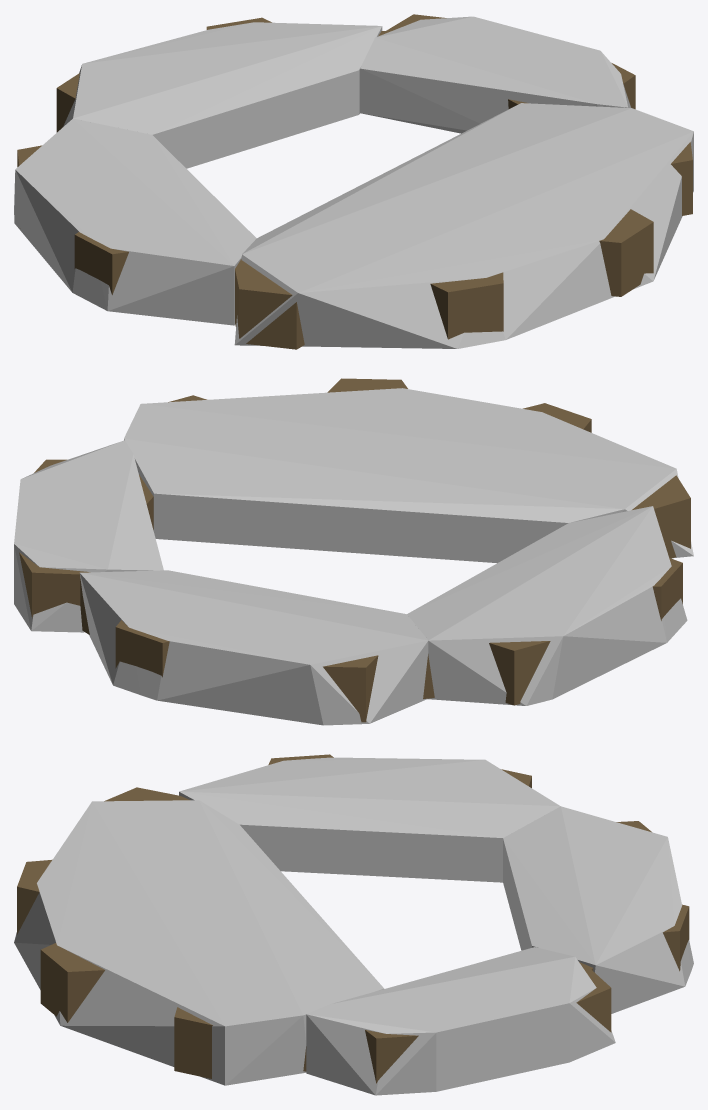
File: SM_Bld_Planetarium_01_Gear_04.fbx
3 renders of one model, top to bottom at view 1: azimuth 30°, elevation 25°; view 2: azimuth 150°, elevation 25°; view 3: azimuth 270°, elevation 25°, orthographic.
Parts seen in each view (by area): view 1: SM_Bld_Planetarium_01_Gear_04_ConvexHulls, SM_Bld_Planetarium_01_Gear_04; view 2: SM_Bld_Planetarium_01_Gear_04_ConvexHulls, SM_Bld_Planetarium_01_Gear_04; view 3: SM_Bld_Planetarium_01_Gear_04_ConvexHulls, SM_Bld_Planetarium_01_Gear_04.
Part boxes in pixels (x1,y1,x2,y2): SM_Bld_Planetarium_01_Gear_04_ConvexHulls: [14, 16, 693, 348]; SM_Bld_Planetarium_01_Gear_04: [17, 14, 692, 349]; SM_Bld_Planetarium_01_Gear_04_ConvexHulls: [14, 388, 693, 725]; SM_Bld_Planetarium_01_Gear_04: [19, 378, 690, 722]; SM_Bld_Planetarium_01_Gear_04_ConvexHulls: [14, 757, 693, 1095]; SM_Bld_Planetarium_01_Gear_04: [17, 754, 689, 1083].
Size of the model in its own units: 191 by 191 by 18.42.
Materials: 2 (1 with a texture image).
